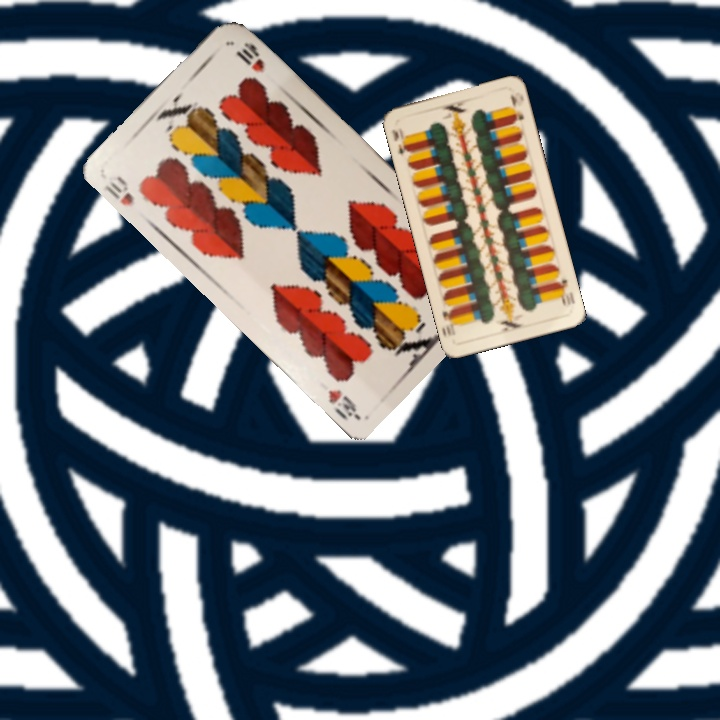E10: (388, 125, 414, 157), (553, 275, 577, 308)
H10: (100, 172, 137, 208)
